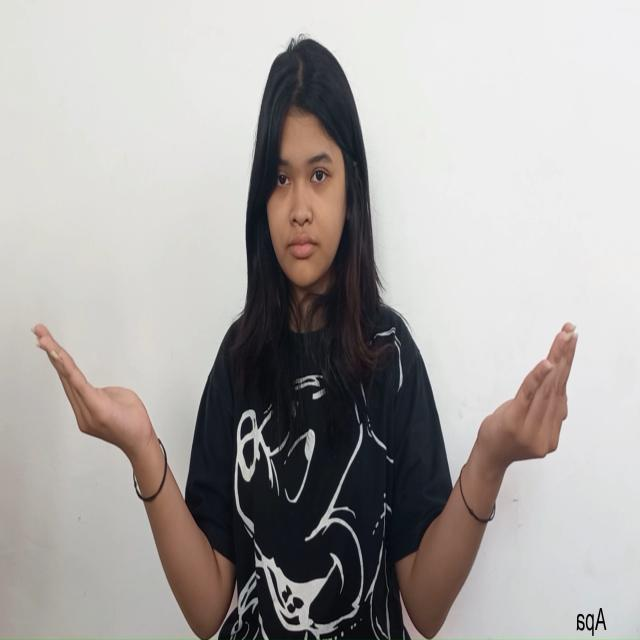Apa -BISINDO-: (30, 317, 580, 473)
